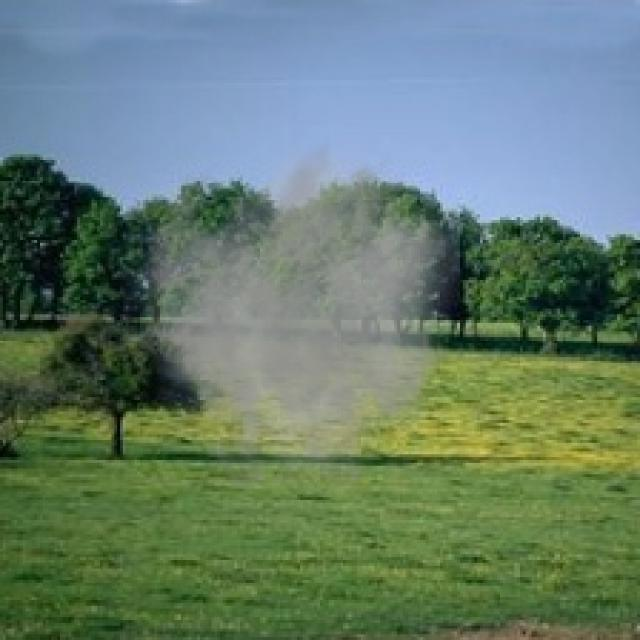Smoke: (114, 137, 460, 497)
